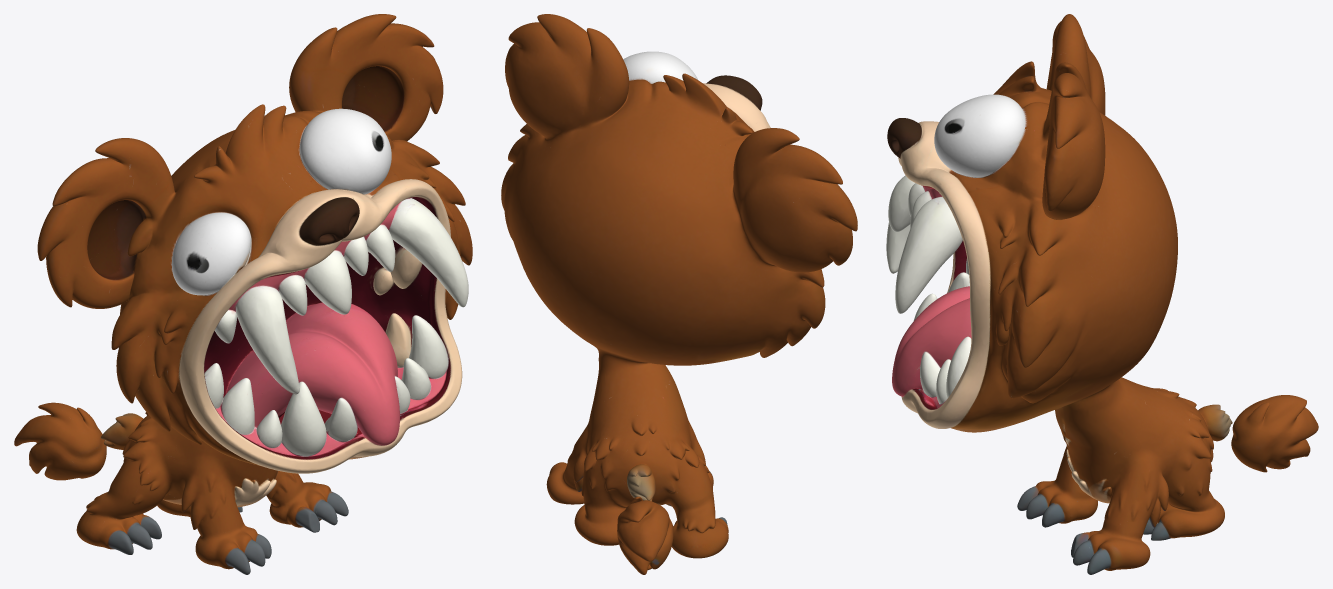
The model's file is chambeer.glb.
The picture shows the model from 3 angles, left to right: view 1: azimuth 30°, elevation 25°; view 2: azimuth 150°, elevation 25°; view 3: azimuth 270°, elevation 25°; orthographic projection. The views are drawn at different scales.
Size of the model in its own units: 1.63 by 1.9 by 1.48.
Materials: 1 (1 with a texture image).
